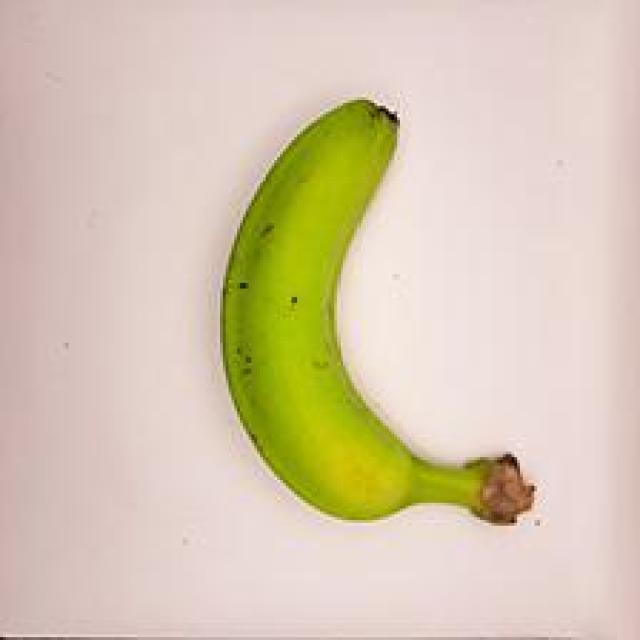Unripe: (161, 38, 555, 551)
